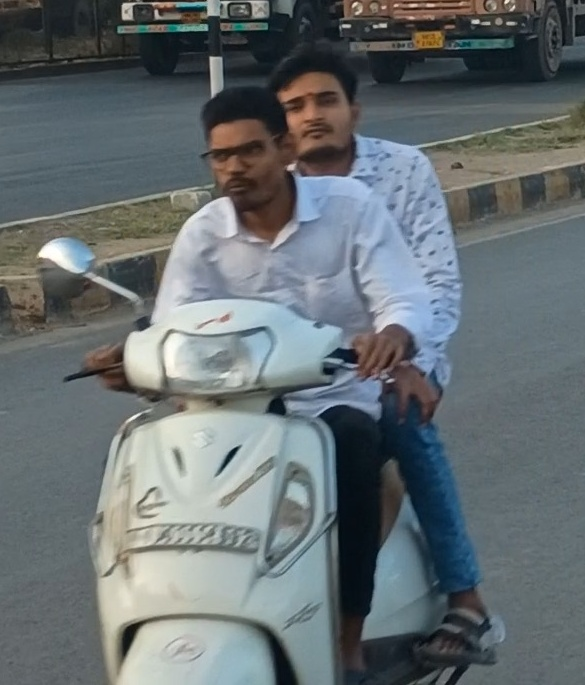BikeWithRider: (26, 42, 506, 684)
NoHelmet: (189, 85, 310, 214), (261, 49, 366, 160)
